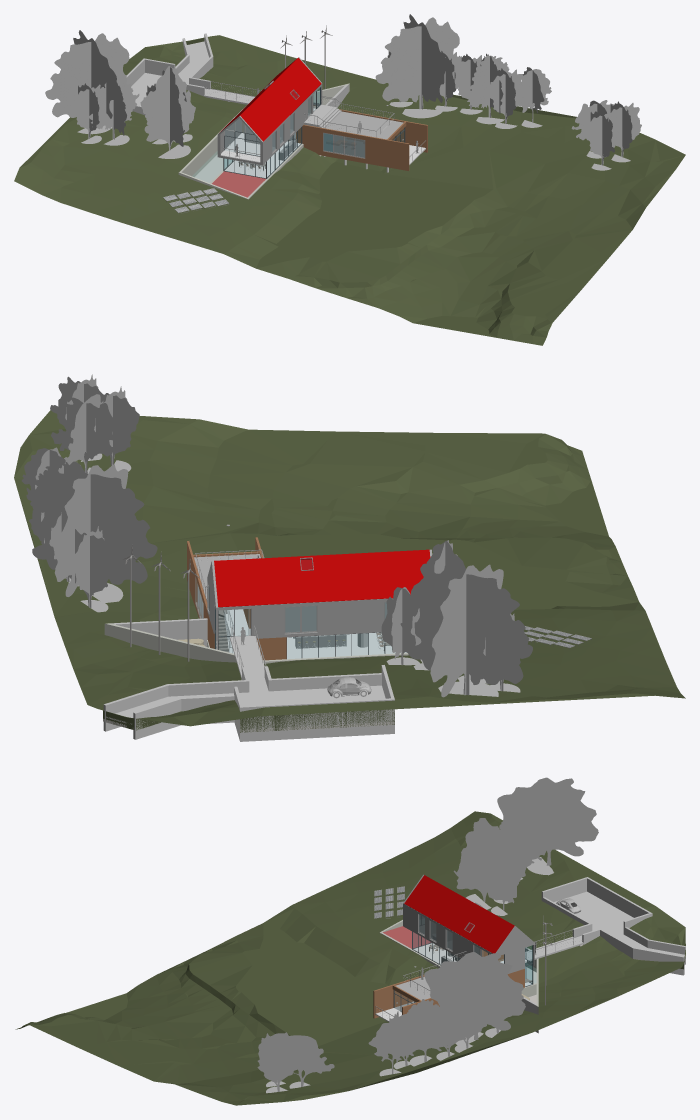
The picture shows the model from 3 angles, top to bottom: view 1: azimuth 30°, elevation 25°; view 2: azimuth 150°, elevation 25°; view 3: azimuth 270°, elevation 25°; orthographic projection. The views are drawn at different scales.
Parts seen in each view (by area): view 1: 3ZGD7y6S5209$mGLi_sPll, 2kYqvrv7r7Ee9Lf6DEVctg, 2kYqvrv7r7Ee9Lf6DEVd2D, 2cgXCjpDT0ZxBvxMSr3pfm, 2kYqvrv7r7Ee9Lf6DEVcq_, 2OulbipBrAkwQNv_KJRV9c, 2kYqvrv7r7Ee9Lf6DEVcvD, 2kYqvrv7r7Ee9Lf6DEVcn3, 2kYqvrv7r7Ee9Lf6DEVclx, 2kYqvrv7r7Ee9Lf6DEVcpT, 0LKJKCHUL1kBtnlFXddz6a, 2kYqvrv7r7Ee9Lf6DEVclA (+11 smaller); view 2: 3ZGD7y6S5209$mGLi_sPll, 2kYqvrv7r7Ee9Lf6DEVd2D, 2kYqvrv7r7Ee9Lf6DEVctg, 2cgXCjpDT0ZxBvxMSr3pfm, 38NblWsDL1I8DljLvn67bV, 3_T6_Ndub6XO_ef59N4DRY, 2kYqvrv7r7Ee9Lf6DEVcim, 2kYqvrv7r7Ee9Lf6DEVctv, 38BWtPCUX0VgAKmmGnoKyb, 0NWseyvsH7_gBW225aGtx$, 2kYqvrv7r7Ee9Lf6DEVclx, 2kYqvrv7r7Ee9Lf6DEVcw_ (+19 smaller); view 3: 3ZGD7y6S5209$mGLi_sPll, 2kYqvrv7r7Ee9Lf6DEVd2D, 2kYqvrv7r7Ee9Lf6DEVctg, 2cgXCjpDT0ZxBvxMSr3pfm, 2kYqvrv7r7Ee9Lf6DEVcq_, 38BWtPCUX0VgAKmmGnoKyb, 2kYqvrv7r7Ee9Lf6DEVclA, 2kYqvrv7r7Ee9Lf6DEVcvD, 2kYqvrv7r7Ee9Lf6DEVcpT, 2kYqvrv7r7Ee9Lf6DEVcn3, 38NblWsDL1I8DljLvn67cw, 2kYqvrv7r7Ee9Lf6DEVcw_ (+12 smaller).
Part boxes in pixels (box(x1,y1,x2,y2)): 3ZGD7y6S5209$mGLi_sPll: box(14, 35, 685, 345); 2kYqvrv7r7Ee9Lf6DEVctg: box(375, 14, 459, 118); 2kYqvrv7r7Ee9Lf6DEVd2D: box(45, 30, 129, 134); 2cgXCjpDT0ZxBvxMSr3pfm: box(219, 57, 321, 141); 2kYqvrv7r7Ee9Lf6DEVcq_: box(144, 66, 195, 158); 2OulbipBrAkwQNv_KJRV9c: box(302, 124, 409, 170); 2kYqvrv7r7Ee9Lf6DEVcvD: box(89, 77, 139, 145); 2kYqvrv7r7Ee9Lf6DEVcn3: box(465, 53, 509, 124); 2kYqvrv7r7Ee9Lf6DEVclx: box(584, 110, 622, 170); 2kYqvrv7r7Ee9Lf6DEVcpT: box(514, 67, 551, 127); 0LKJKCHUL1kBtnlFXddz6a: box(325, 111, 403, 139); 2kYqvrv7r7Ee9Lf6DEVclA: box(606, 101, 641, 162); 3ZGD7y6S5209$mGLi_sPll: box(14, 410, 685, 732); 2kYqvrv7r7Ee9Lf6DEVd2D: box(407, 561, 532, 706); 2kYqvrv7r7Ee9Lf6DEVctg: box(32, 461, 157, 602); 2cgXCjpDT0ZxBvxMSr3pfm: box(214, 549, 430, 607); 38NblWsDL1I8DljLvn67bV: box(218, 598, 393, 638); 3_T6_Ndub6XO_ef59N4DRY: box(239, 698, 391, 741); 2kYqvrv7r7Ee9Lf6DEVcim: box(50, 394, 123, 473); 2kYqvrv7r7Ee9Lf6DEVctv: box(68, 526, 116, 612); 38BWtPCUX0VgAKmmGnoKyb: box(106, 685, 385, 724); 0NWseyvsH7_gBW225aGtx$: box(104, 623, 236, 662); 2kYqvrv7r7Ee9Lf6DEVclx: box(87, 386, 139, 471); 2kYqvrv7r7Ee9Lf6DEVcw_: box(381, 587, 419, 665); 3ZGD7y6S5209$mGLi_sPll: box(15, 811, 685, 1105); 2kYqvrv7r7Ee9Lf6DEVd2D: box(497, 777, 598, 875); 2kYqvrv7r7Ee9Lf6DEVctg: box(424, 952, 525, 1045); 2cgXCjpDT0ZxBvxMSr3pfm: box(404, 875, 514, 953); 2kYqvrv7r7Ee9Lf6DEVcq_: box(453, 818, 511, 909); 38BWtPCUX0VgAKmmGnoKyb: box(554, 891, 684, 956); 2kYqvrv7r7Ee9Lf6DEVclA: box(257, 1038, 304, 1093); 2kYqvrv7r7Ee9Lf6DEVcvD: box(499, 811, 549, 879); 2kYqvrv7r7Ee9Lf6DEVcpT: box(368, 1021, 413, 1076); 2kYqvrv7r7Ee9Lf6DEVcn3: box(406, 999, 456, 1066); 38NblWsDL1I8DljLvn67cw: box(404, 904, 492, 958); 2kYqvrv7r7Ee9Lf6DEVcw_: box(487, 857, 518, 915).
Size of the model in its own units: 83.55 by 24.31 by 87.2.
